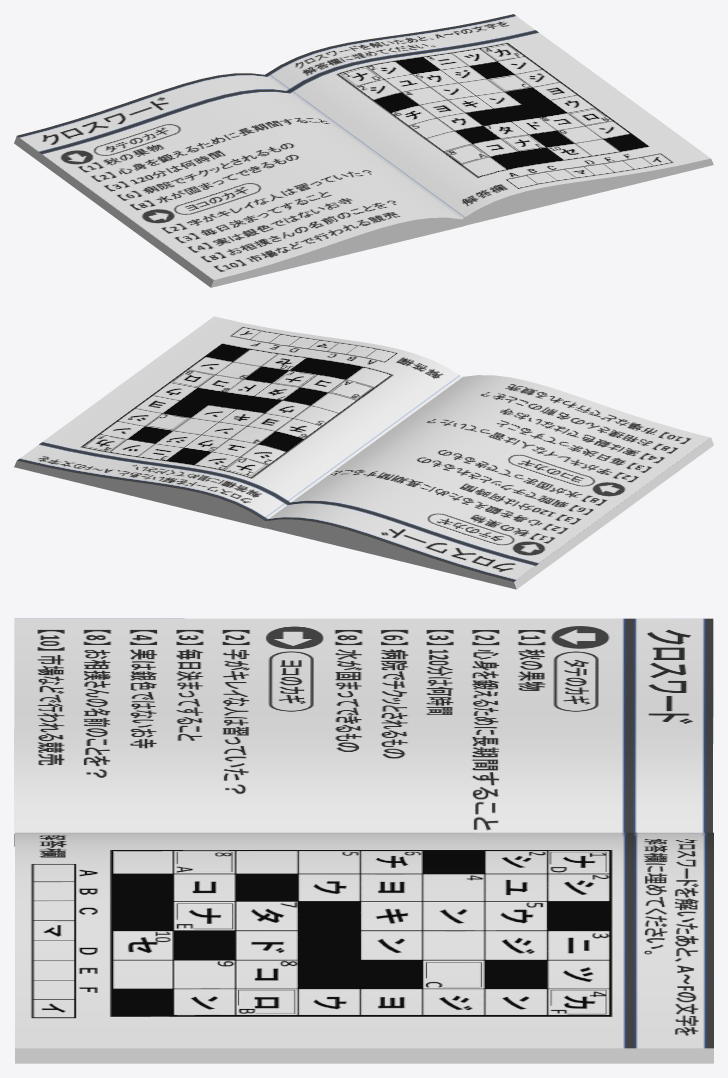
The model's file is CrossWord.fbx.
The picture shows the model from 3 angles, top to bottom: view 1: azimuth 30°, elevation 25°; view 2: azimuth 150°, elevation 25°; view 3: azimuth 270°, elevation 25°; orthographic projection. The views are drawn at different scales.
Parts seen in each view (by area): view 1: ベジエカーブ.002; view 2: ベジエカーブ.002; view 3: ベジエカーブ.002.
Part boxes in pixels (left/top/right/bottom): ベジエカーブ.002: left=14, top=14, right=713, bottom=287; ベジエカーブ.002: left=14, top=316, right=713, bottom=589; ベジエカーブ.002: left=14, top=618, right=713, bottom=1063.
Bounding box in the file's own units: 1.4 × 0.052 × 0.9499.
Materials: 2 (1 with a texture image).
